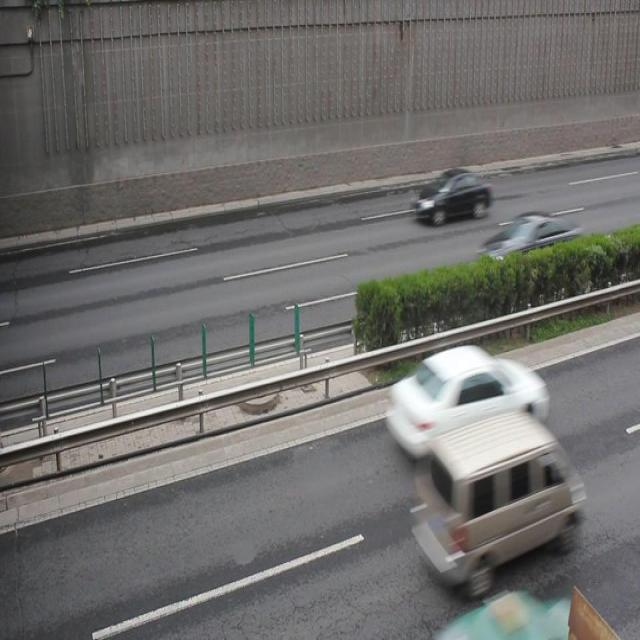car: (383, 342, 549, 458), (475, 208, 581, 284), (434, 591, 588, 640), (408, 167, 492, 226)
truck: (410, 411, 583, 587)
